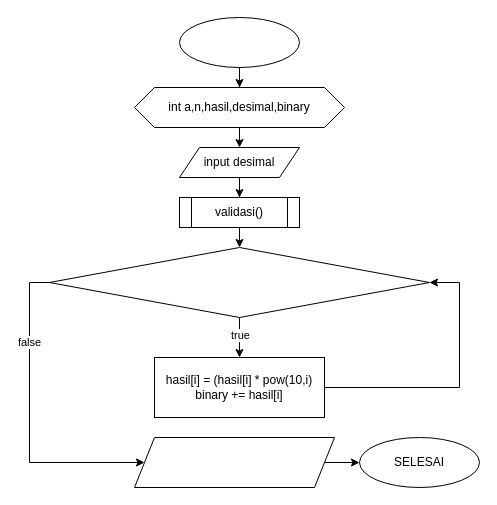
This 497x505 diagram has some shape labels left out. The centre of each missing label's shape, as x and y in pixels:
"decimalToBinary" goes at (239,42).
"for (int i = 0; i < sizeof(hasil)/sizeof(hasil[0]); i++)" goes at (239,282).
"print desimal & binary" goes at (234,462).
